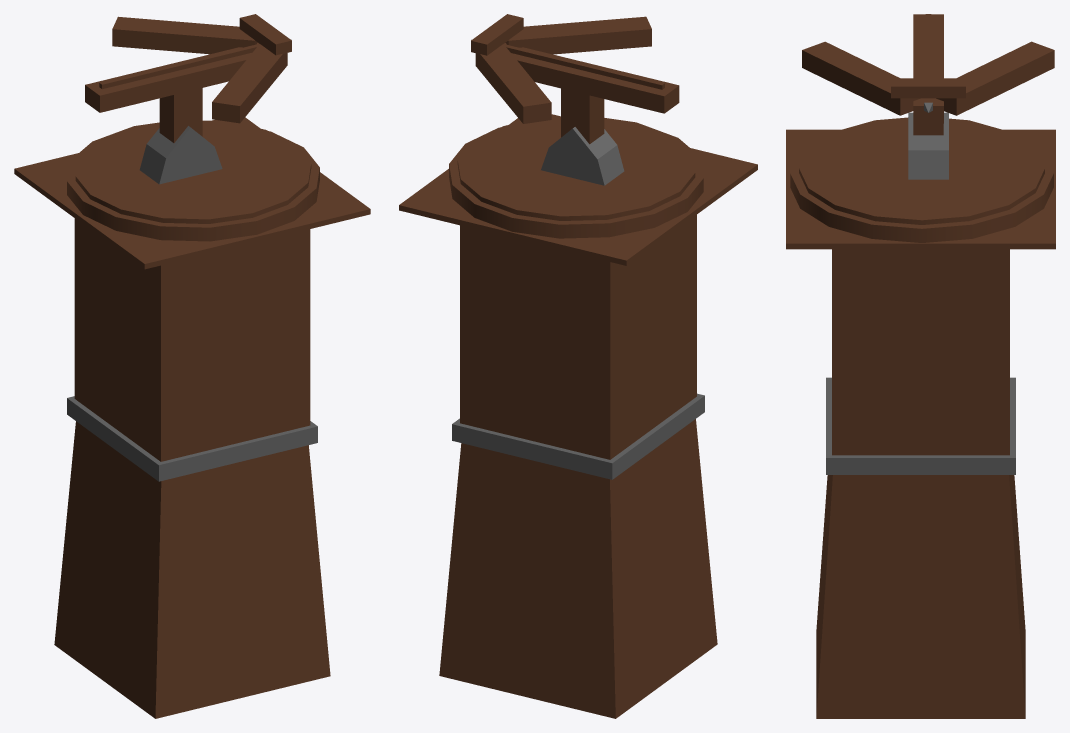
The model's file is placeble tower.fbx.
3 views of the same model, side by side, from view 1: azimuth 30°, elevation 25°; view 2: azimuth 150°, elevation 25°; view 3: azimuth 270°, elevation 25° (orthographic). The views are drawn at different scales.
Parts seen in each view (by area): view 1: Cube.045, ballista stand.002, Cube.048, Cube.049, Cube.046, Cube.050, Cube.047, Cube.052, Cube.051; view 2: Cube.045, ballista stand.002, Cube.048, Cube.050, Cube.046, Cube.049, Cube.047, Cube.052, Cube.051; view 3: Cube.045, ballista stand.002, Cube.050, Cube.049, Cube.048, Cube.046, Cube.051, Cube.052.
Boxes of the visible parts, box(x1,y1,x2,y2) form: Cube.045: box(14, 117, 370, 718); ballista stand.002: box(67, 120, 319, 241); Cube.048: box(85, 42, 258, 112); Cube.049: box(112, 16, 257, 54); Cube.046: box(139, 126, 222, 184); Cube.050: box(212, 44, 287, 123); Cube.047: box(159, 88, 202, 142); Cube.052: box(99, 43, 259, 89); Cube.051: box(239, 14, 291, 55); Cube.045: box(399, 114, 757, 718); ballista stand.002: box(449, 117, 703, 238); Cube.048: box(504, 43, 679, 113); Cube.050: box(505, 16, 651, 54); Cube.046: box(541, 127, 624, 185); Cube.049: box(475, 44, 551, 123); Cube.047: box(561, 88, 604, 144); Cube.052: box(503, 44, 664, 89); Cube.051: box(471, 14, 523, 55); Cube.045: box(786, 129, 1055, 718); ballista stand.002: box(790, 117, 1053, 242); Cube.050: box(802, 41, 920, 115); Cube.049: box(936, 41, 1054, 115); Cube.048: box(913, 14, 943, 123); Cube.046: box(908, 112, 948, 179); Cube.051: box(891, 78, 965, 98); Cube.052: box(925, 14, 931, 102).
Bounding box in the file's own units: 12.39 × 31.99 × 12.39.
